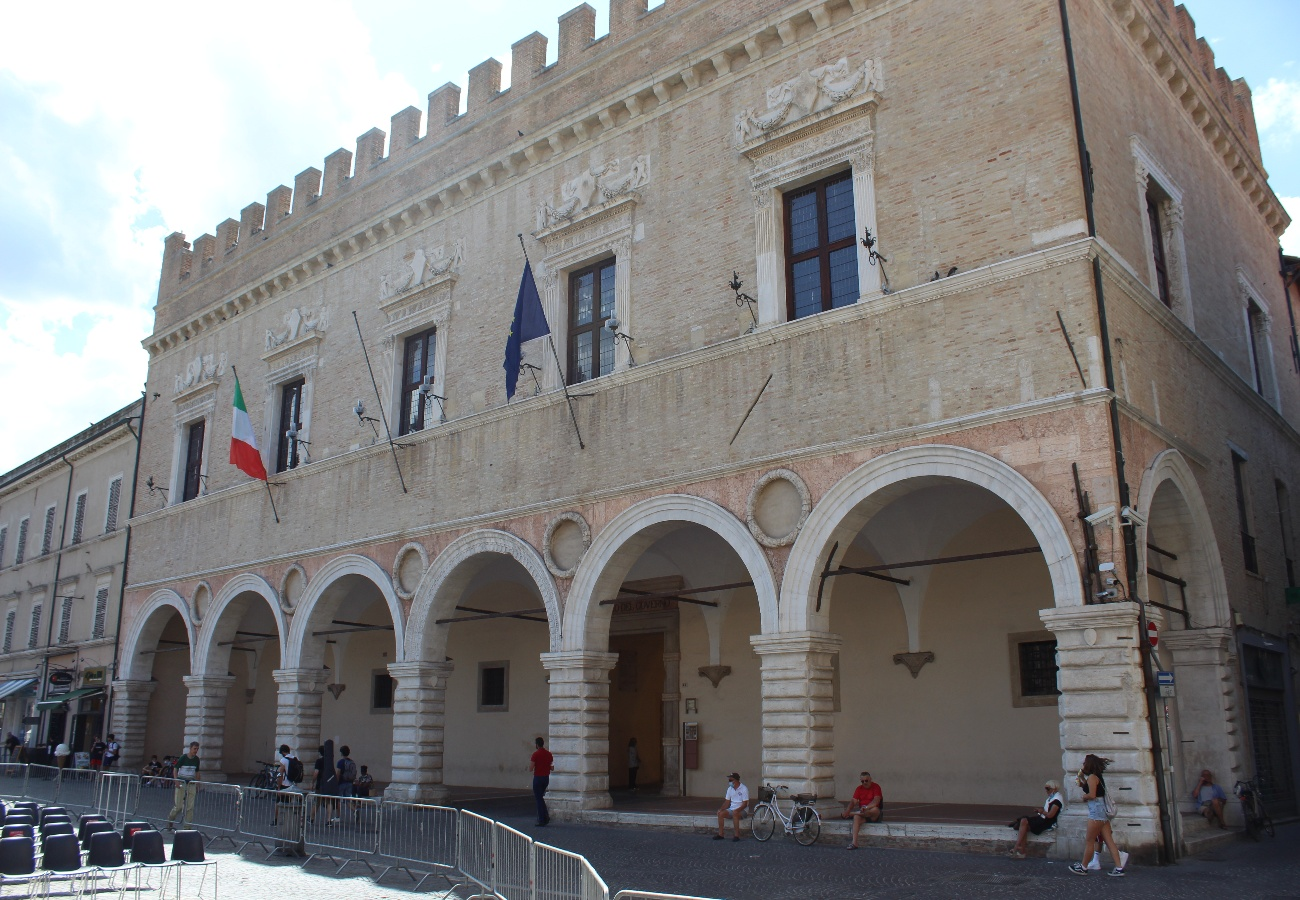Palazzo Ducale: (121, 1, 1157, 797)
